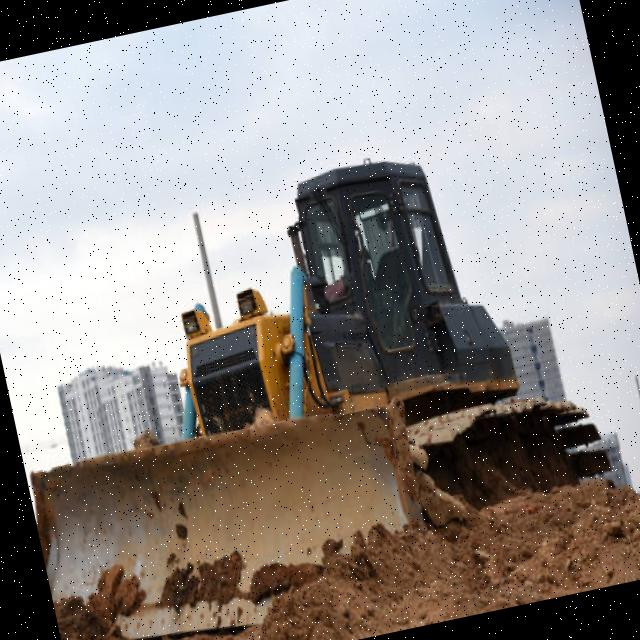Bulldozer: (0, 117, 628, 640)
